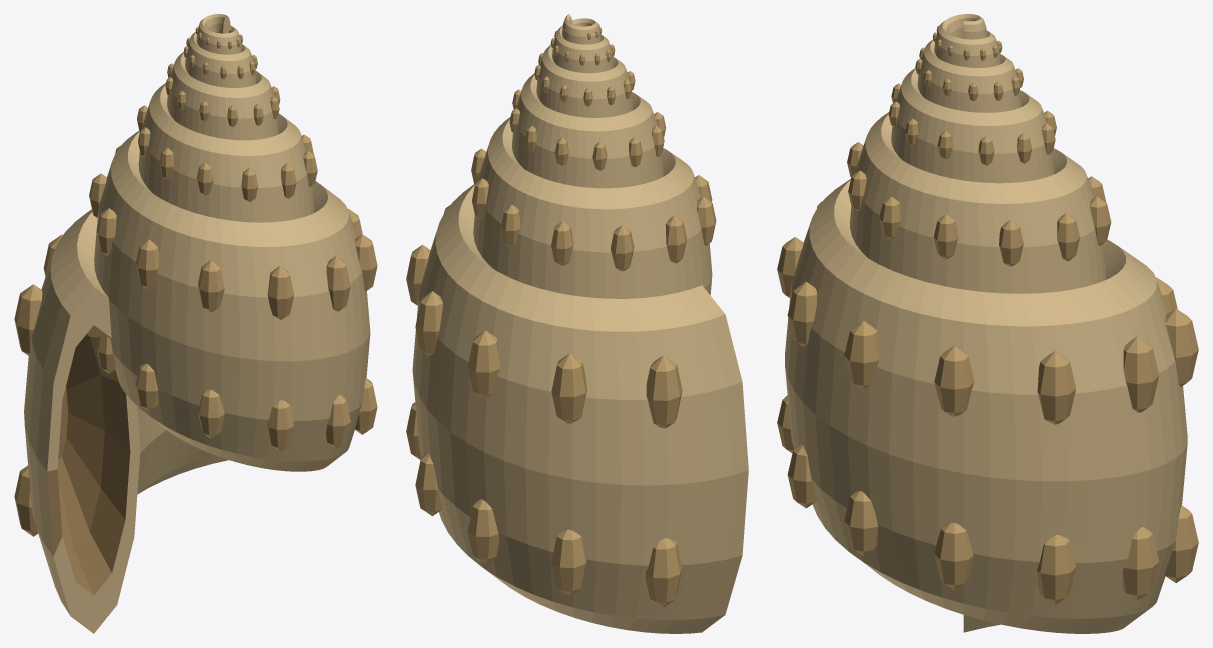
The model's file is hypoturrilites.glb.
3 views of the same model, side by side, from view 1: azimuth 30°, elevation 25°; view 2: azimuth 150°, elevation 25°; view 3: azimuth 270°, elevation 25° (orthographic). The views are drawn at different scales.
Visible parts, largest first — view 1: one-continuous-growing-helicoid, two-descending-rows-rounded-nodes; view 2: one-continuous-growing-helicoid, two-descending-rows-rounded-nodes; view 3: one-continuous-growing-helicoid, two-descending-rows-rounded-nodes.
Boxes of the visible parts, x1,y1,x2,y2 form: one-continuous-growing-helicoid: [24, 14, 370, 633]; two-descending-rows-rounded-nodes: [14, 27, 377, 536]; one-continuous-growing-helicoid: [412, 14, 748, 633]; two-descending-rows-rounded-nodes: [406, 24, 716, 607]; one-continuous-growing-helicoid: [785, 14, 1187, 633]; two-descending-rows-rounded-nodes: [777, 25, 1198, 604].
Size of the model in its own units: 0.1 by 0.18 by 0.1.
